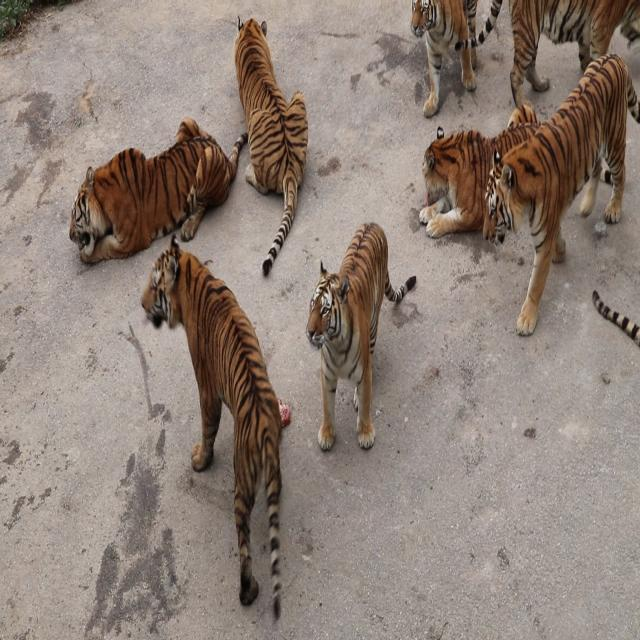Tiger: (141, 234, 283, 616), (483, 51, 639, 338), (309, 202, 415, 465), (69, 115, 247, 263), (232, 13, 308, 274), (481, 0, 638, 113), (418, 102, 537, 238), (410, 0, 479, 119)
